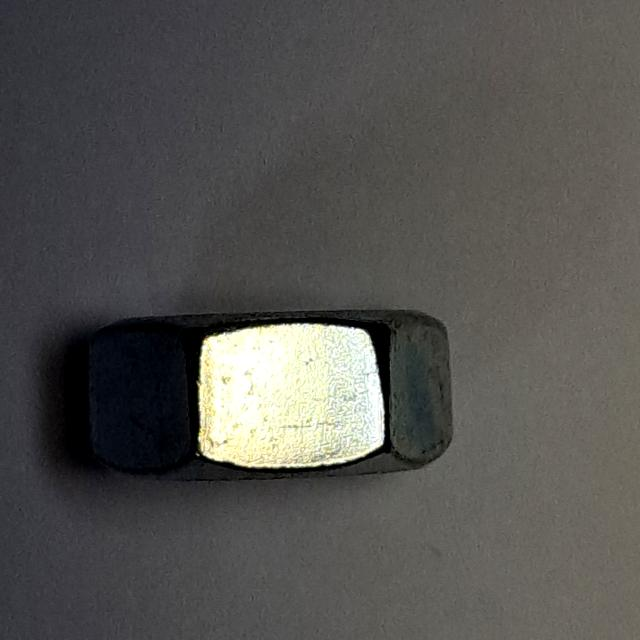Side_Excellent: (76, 295, 466, 503)
